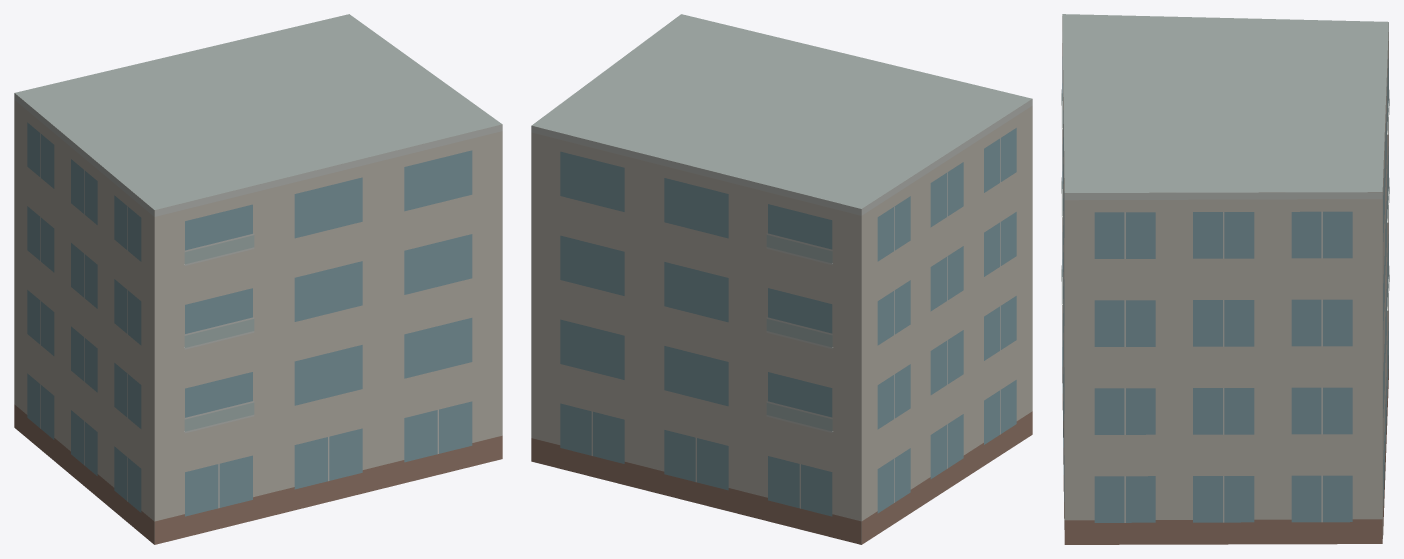
The model's file is survey-upis-32538564.glb.
3 renders of one model, left to right at view 1: azimuth 30°, elevation 25°; view 2: azimuth 150°, elevation 25°; view 3: azimuth 270°, elevation 25°, orthographic. The views are drawn at different scales.
Visible parts, largest first — view 1: survey-upis-32538564.tmp; view 2: survey-upis-32538564.tmp; view 3: survey-upis-32538564.tmp.
Part boxes in pixels (x1,y1,x2,y2): survey-upis-32538564.tmp: [14, 14, 502, 544]; survey-upis-32538564.tmp: [531, 14, 1032, 544]; survey-upis-32538564.tmp: [1061, 14, 1389, 544].
Bounding box in the file's own units: 13.11 × 12 × 10.15.
